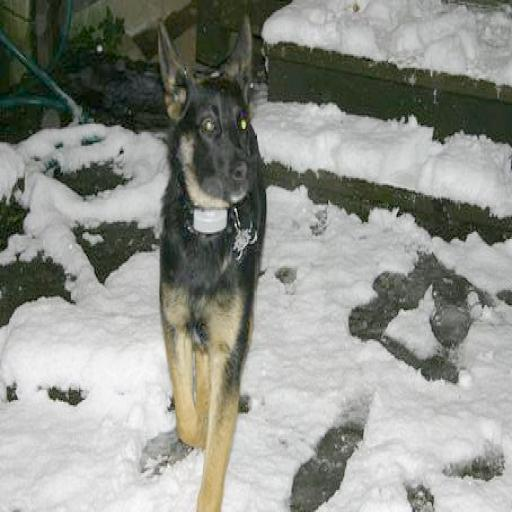dog_face: (156, 25, 257, 200)
